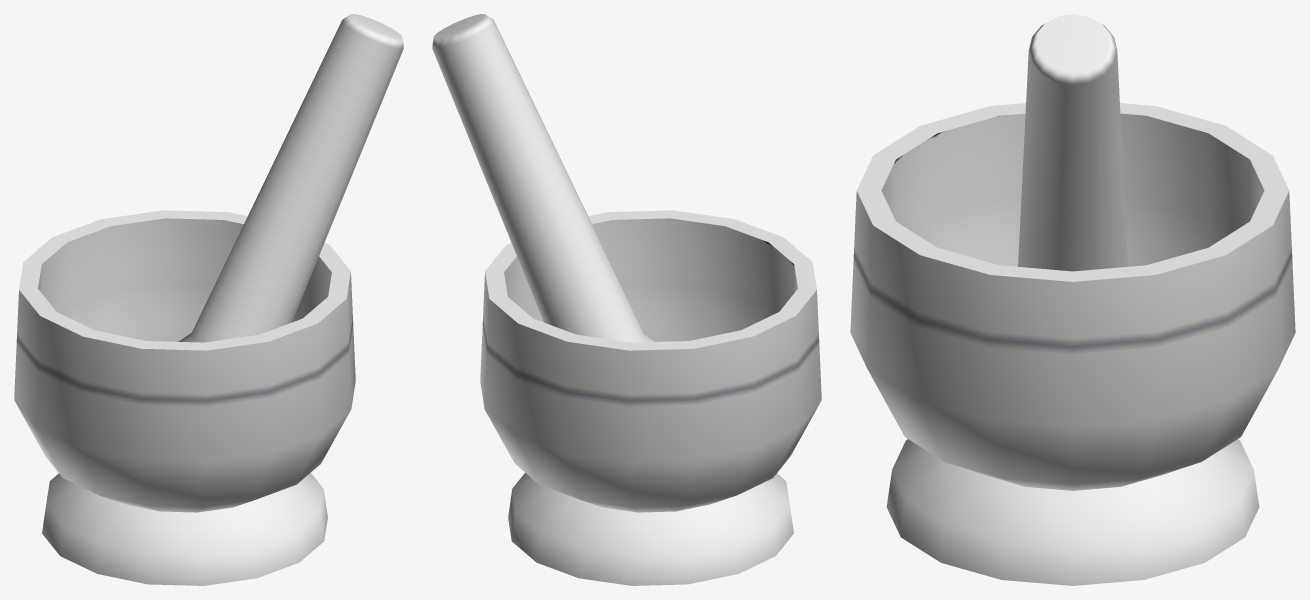
The model's file is tazon_de_mortero.fbx.
3 views of the same model, side by side, from view 1: azimuth 30°, elevation 25°; view 2: azimuth 150°, elevation 25°; view 3: azimuth 270°, elevation 25° (orthographic). The views are drawn at different scales.
Visible parts, largest first — view 1: pCylinder7; view 2: pCylinder7; view 3: pCylinder7.
Part boxes in pixels (x1=…): pCylinder7: x1=14, y1=14, x2=403, y2=585; pCylinder7: x1=432, y1=14, x2=821, y2=585; pCylinder7: x1=850, y1=14, x2=1295, y2=585.
Size of the model in its own units: 1.2 by 1.47 by 0.9858.
